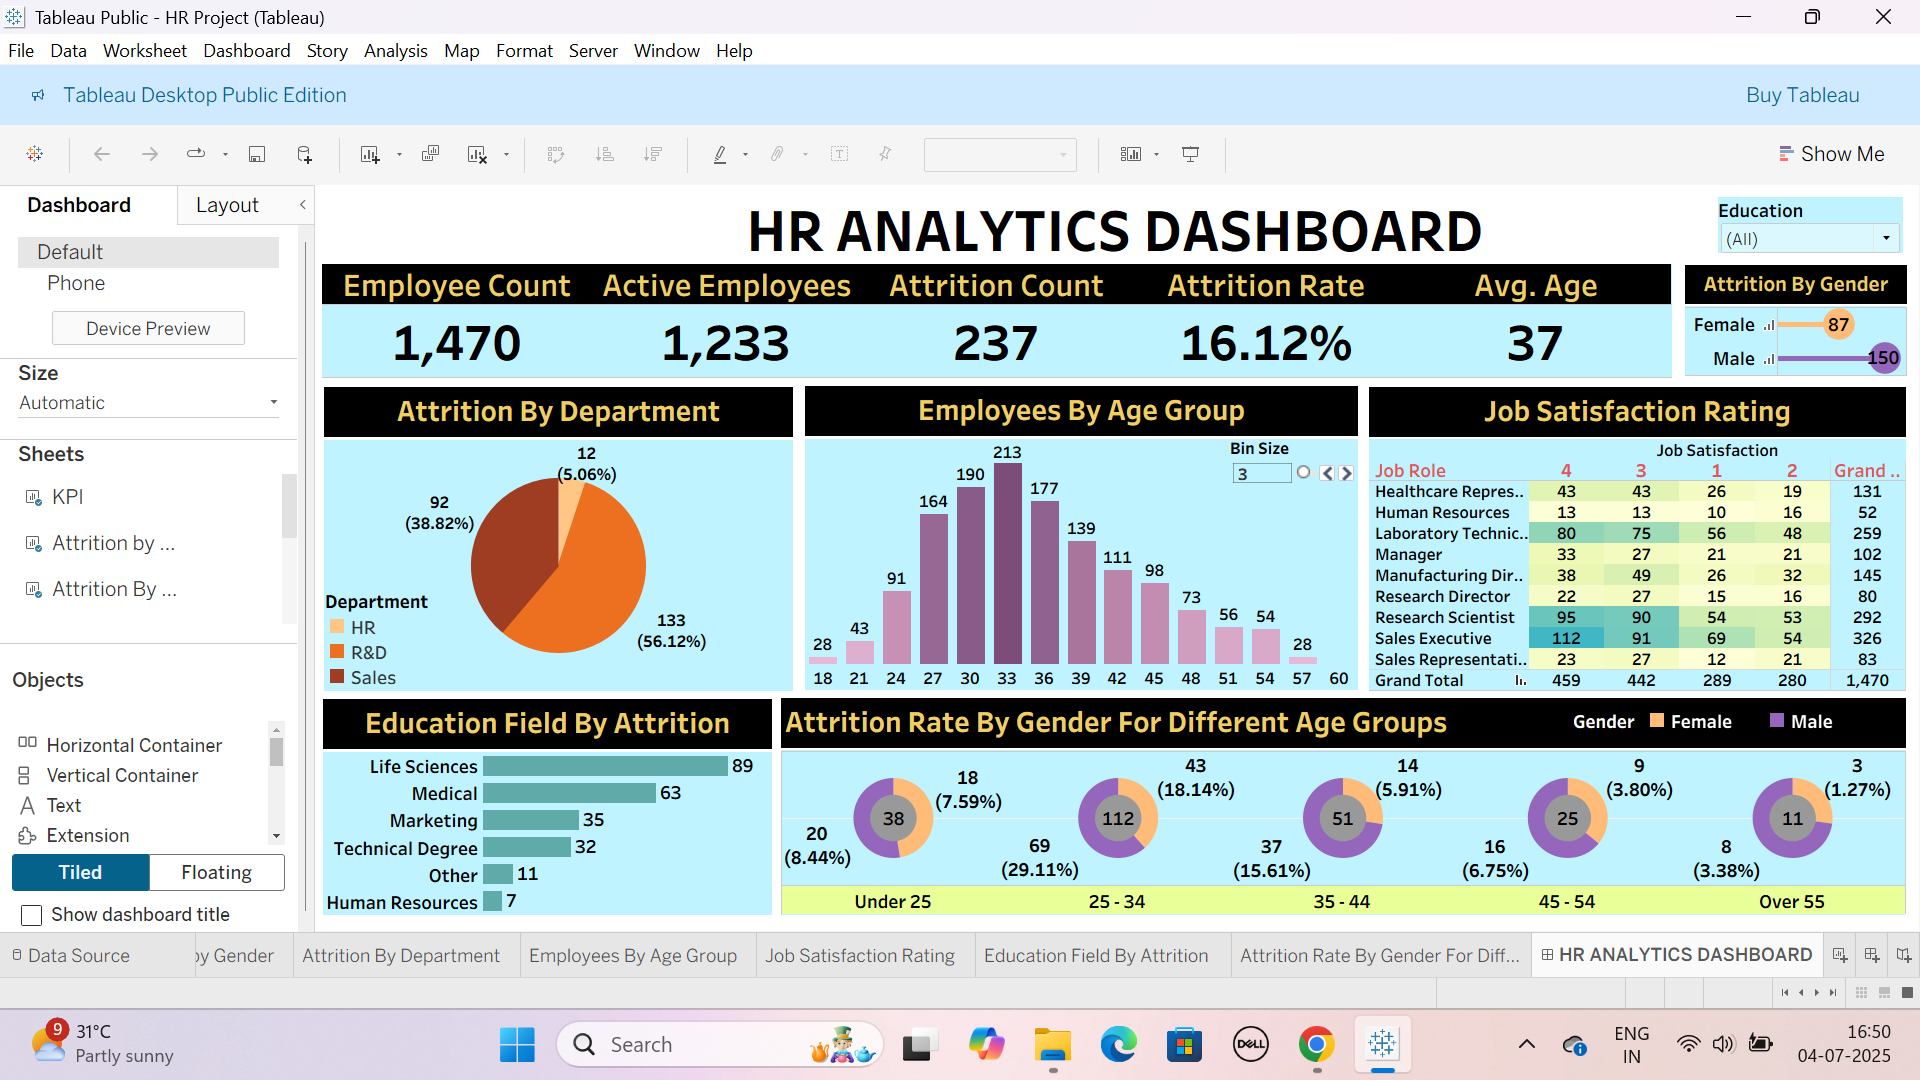

The dashboard page shown, as its layout file describes it:
{"tool":"tableau","page":{"name":"HR ANALYTICS DASHBOARD","canvas":[1000,1000],"units":"permille","ordinal":0},"visuals":[{"type":"filter","title":"Attrition By Department","param":"[federated.07imv3s0tw6fim1g0z4qi008h0i3].[none:Education:nk]","box":[874.7,16.1,115.3,75.1]},{"type":"text","box":[6.2,20.1,985,76.4]},{"type":"worksheet","title":"KPI","mark":"Automatic","box":[4.4,105.9,841.6,152.8]},{"type":"worksheet","title":"Attrition by Gender","mark":"Automatic","rows":["Gender"],"cols":["Calculation_1409908184707637248","Calculation_1409908184707637248"],"box":[854.1,107.2,138.4,148.8]},{"type":"worksheet","title":"Employees By Age Group","mark":"Automatic","rows":["Employee Count"],"cols":["Age (bin)"],"box":[305.7,268.9,344.9,407.8]},{"type":"worksheet","title":"Attrition By Department","mark":"Pie","box":[5.6,270.8,292.4,407.5]},{"type":"worksheet","title":"Job Satisfaction Rating","mark":"Square","rows":["Job Role"],"cols":["Job Satisfaction"],"box":[657.1,270.8,334.8,407.5]},{"type":"parameter","param":"[Parameters].[Parameter 1]","box":[570.5,337.8,79.2,72.4]},{"type":"legend","title":"Attrition By Department","param":"[federated.07imv3s0tw6fim1g0z4qi008h0i3].[none:Department:nk]","box":[6.2,540.2,88.5,136.7]},{"type":"worksheet","title":"Attrition Rate By Gender For Different Age Groups","mark":"Pie","rows":["Calculation_1409908184751177736","Calculation_1409908184751177736"],"cols":["CF_age band"],"box":[290.5,687.7,701.4,290.9]},{"type":"worksheet","title":"Education Field By Attrition","mark":"Automatic","rows":["Education Field"],"cols":["Calculation_1409908184707637248"],"box":[5,689,279.9,289.5]},{"type":"legend","title":"Attrition Rate By Gender For Different Age Groups","param":"[federated.07imv3s0tw6fim1g0z4qi008h0i3].[none:Gender:nk]","box":[784.2,701.1,203.8,52.2]}]}

Visuals, with their boxes on the dashboard's canvas, which has no fixed pixel size, in thousandths of its width and height (x1, y1, x2, y2). These are canvas units, not pixel positions in the 1920x1080 screenshot, which may show the page scaled, cropped or inside an application window:
"Attrition By Department" filter: BBox(875, 16, 990, 91)
text: BBox(6, 20, 991, 96)
"KPI" worksheet: BBox(4, 106, 846, 259)
"Attrition by Gender" worksheet: BBox(854, 107, 992, 256)
"Employees By Age Group" worksheet: BBox(306, 269, 651, 677)
"Attrition By Department" worksheet (Pie marks): BBox(6, 271, 298, 678)
"Job Satisfaction Rating" worksheet (Square marks): BBox(657, 271, 992, 678)
parameter: BBox(570, 338, 650, 410)
"Attrition By Department" legend: BBox(6, 540, 95, 677)
"Attrition Rate By Gender For Different Age Groups" worksheet (Pie marks): BBox(290, 688, 992, 979)
"Education Field By Attrition" worksheet: BBox(5, 689, 285, 978)
"Attrition Rate By Gender For Different Age Groups" legend: BBox(784, 701, 988, 753)
